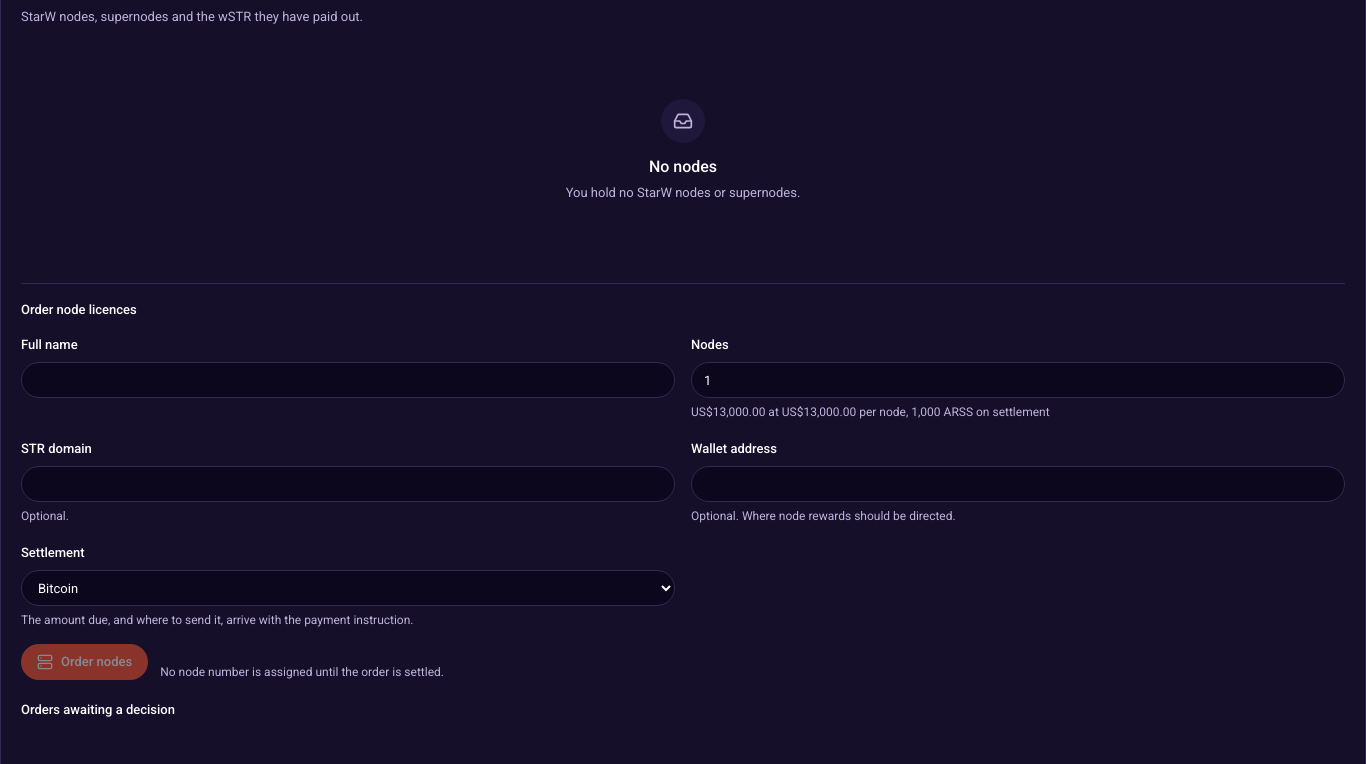
node order form › refuses an order larger than the node numbers the database permits
The width and height of the screenshot is (1366, 764).
(page scrolled)
Type "Investor One" into the field labelled "Full name". click: point(348, 380)
box: [21,362,675,398]
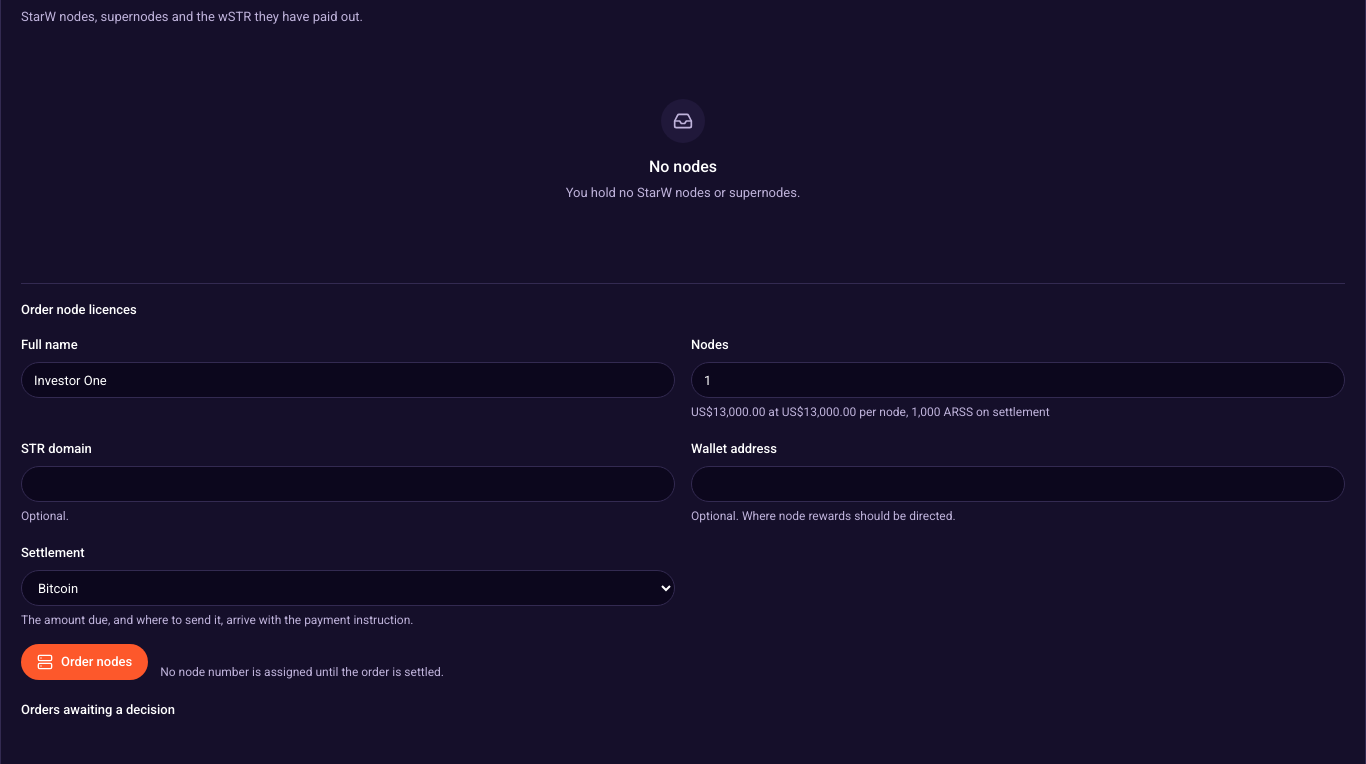
Replace the text in the number field labelled "Nodes" with "101". click: point(1018, 380)
box: [691,362,1345,398]
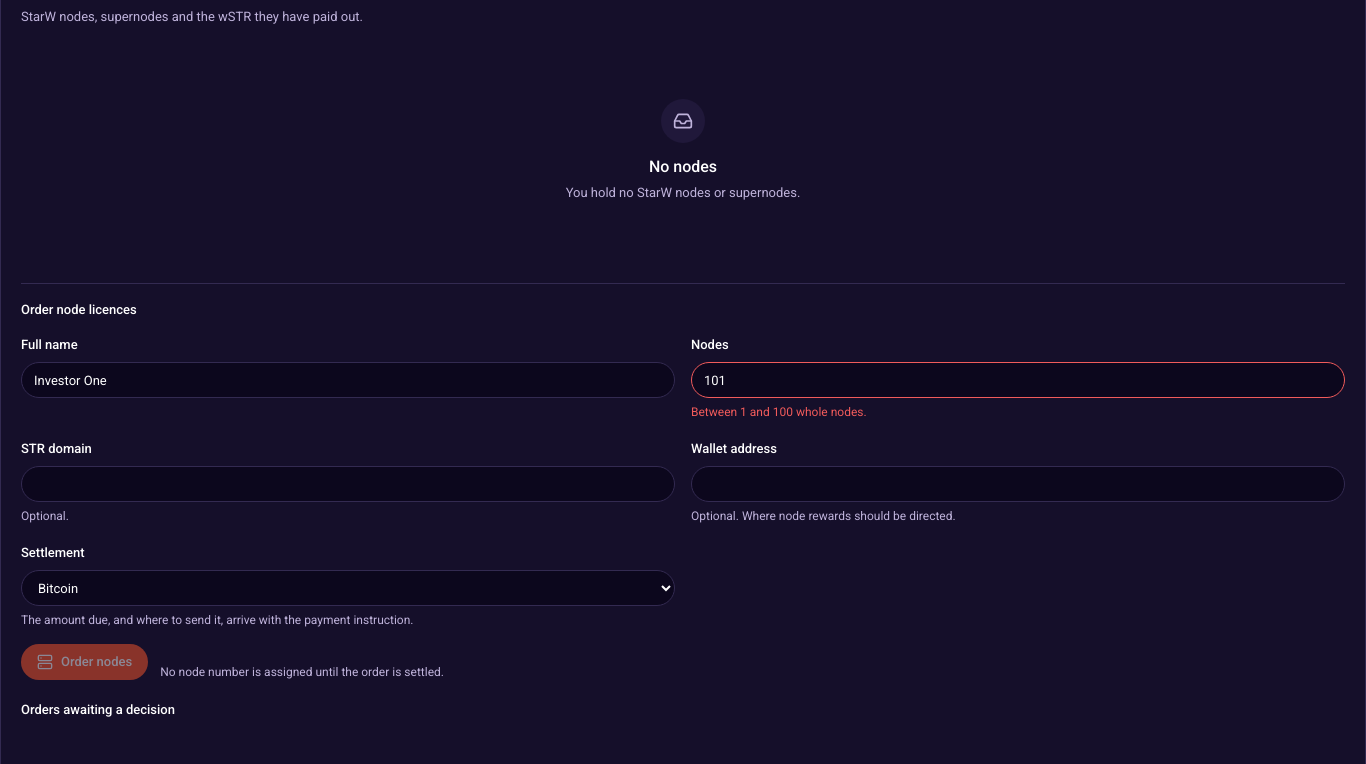
Expected: the button "Order nodes" is disabled, [21,644,148,680]
Expected: the text "Between 1 and 100 whole nodes." is shown, [691,405,867,419]
